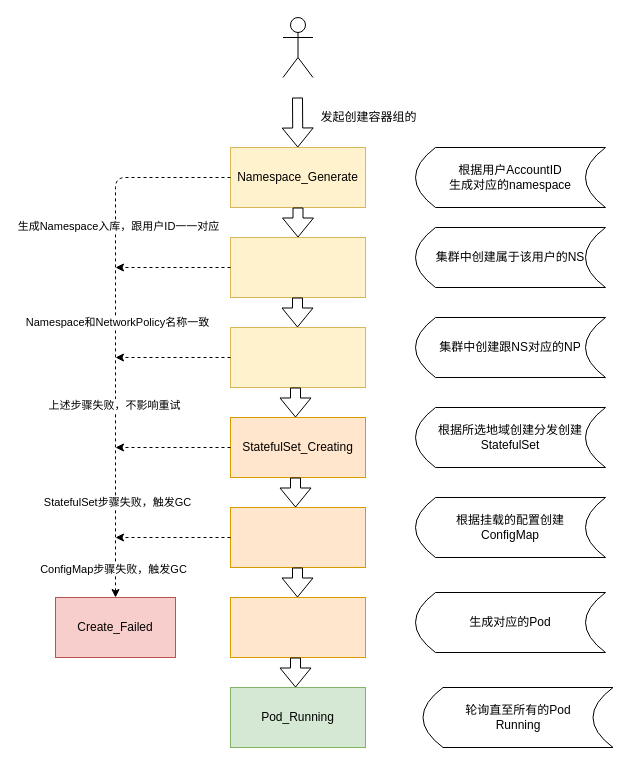
Image size: 631x765. Some labels were removed from this diagram. Each missing label, with the box of its shape:
Actor: (282, 16, 313, 78)
ConfigMap_Creating: (230, 506, 366, 568)
Namespace_Creating: (230, 236, 366, 298)
NetworkPolicy_Creating: (230, 326, 366, 388)
Pod_Creating: (230, 596, 366, 658)
